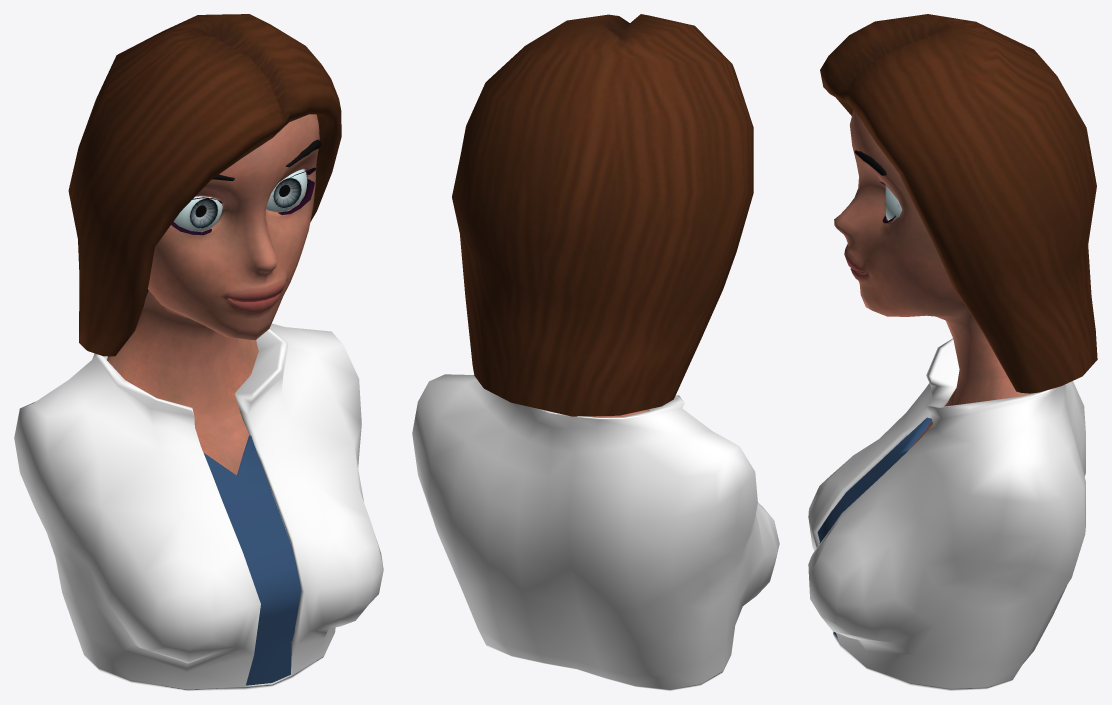
Rendered from female2.glb.
The picture shows the model from 3 angles, left to right: view 1: azimuth 30°, elevation 25°; view 2: azimuth 150°, elevation 25°; view 3: azimuth 270°, elevation 25°; orthographic projection.
Parts seen in each view (by area): view 1: doctor_female; view 2: doctor_female; view 3: doctor_female.
Part boxes in pixels (bbox=[...]): doctor_female: bbox=[14, 14, 383, 690]; doctor_female: bbox=[412, 14, 779, 690]; doctor_female: bbox=[808, 14, 1097, 690].
Size of the model in its own units: 0.2949 by 0.5495 by 0.2351.
1 material, 1 textured.
